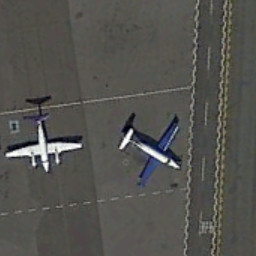Airplane: (115, 112, 190, 194), (3, 108, 88, 179)
